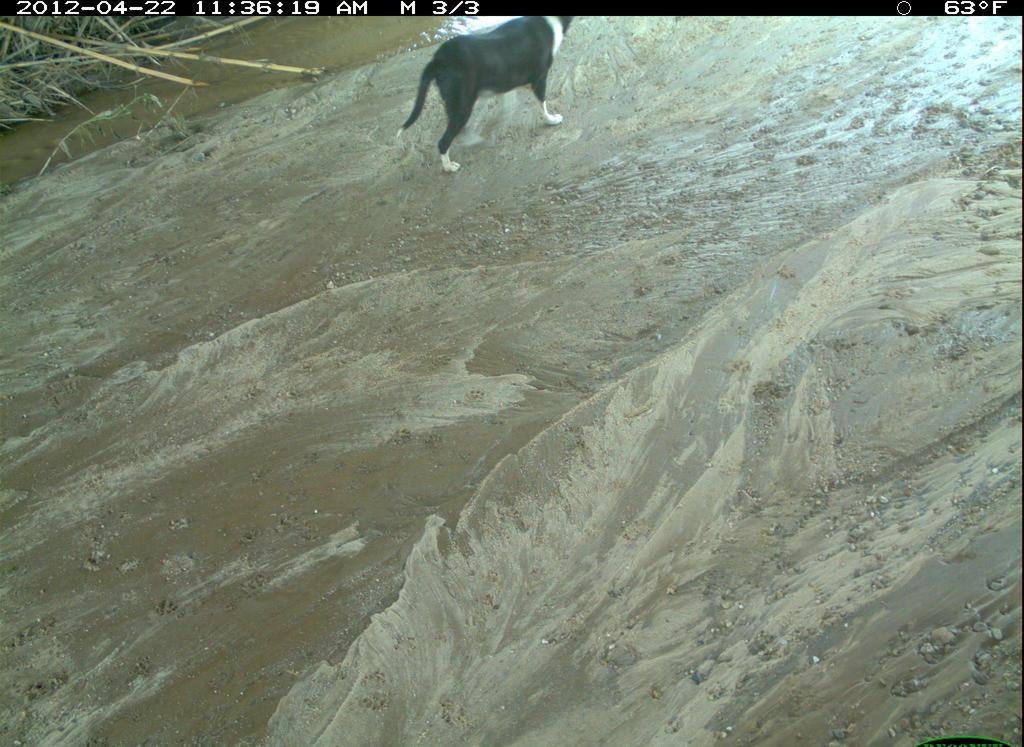dog: (784, 33, 1024, 351)
